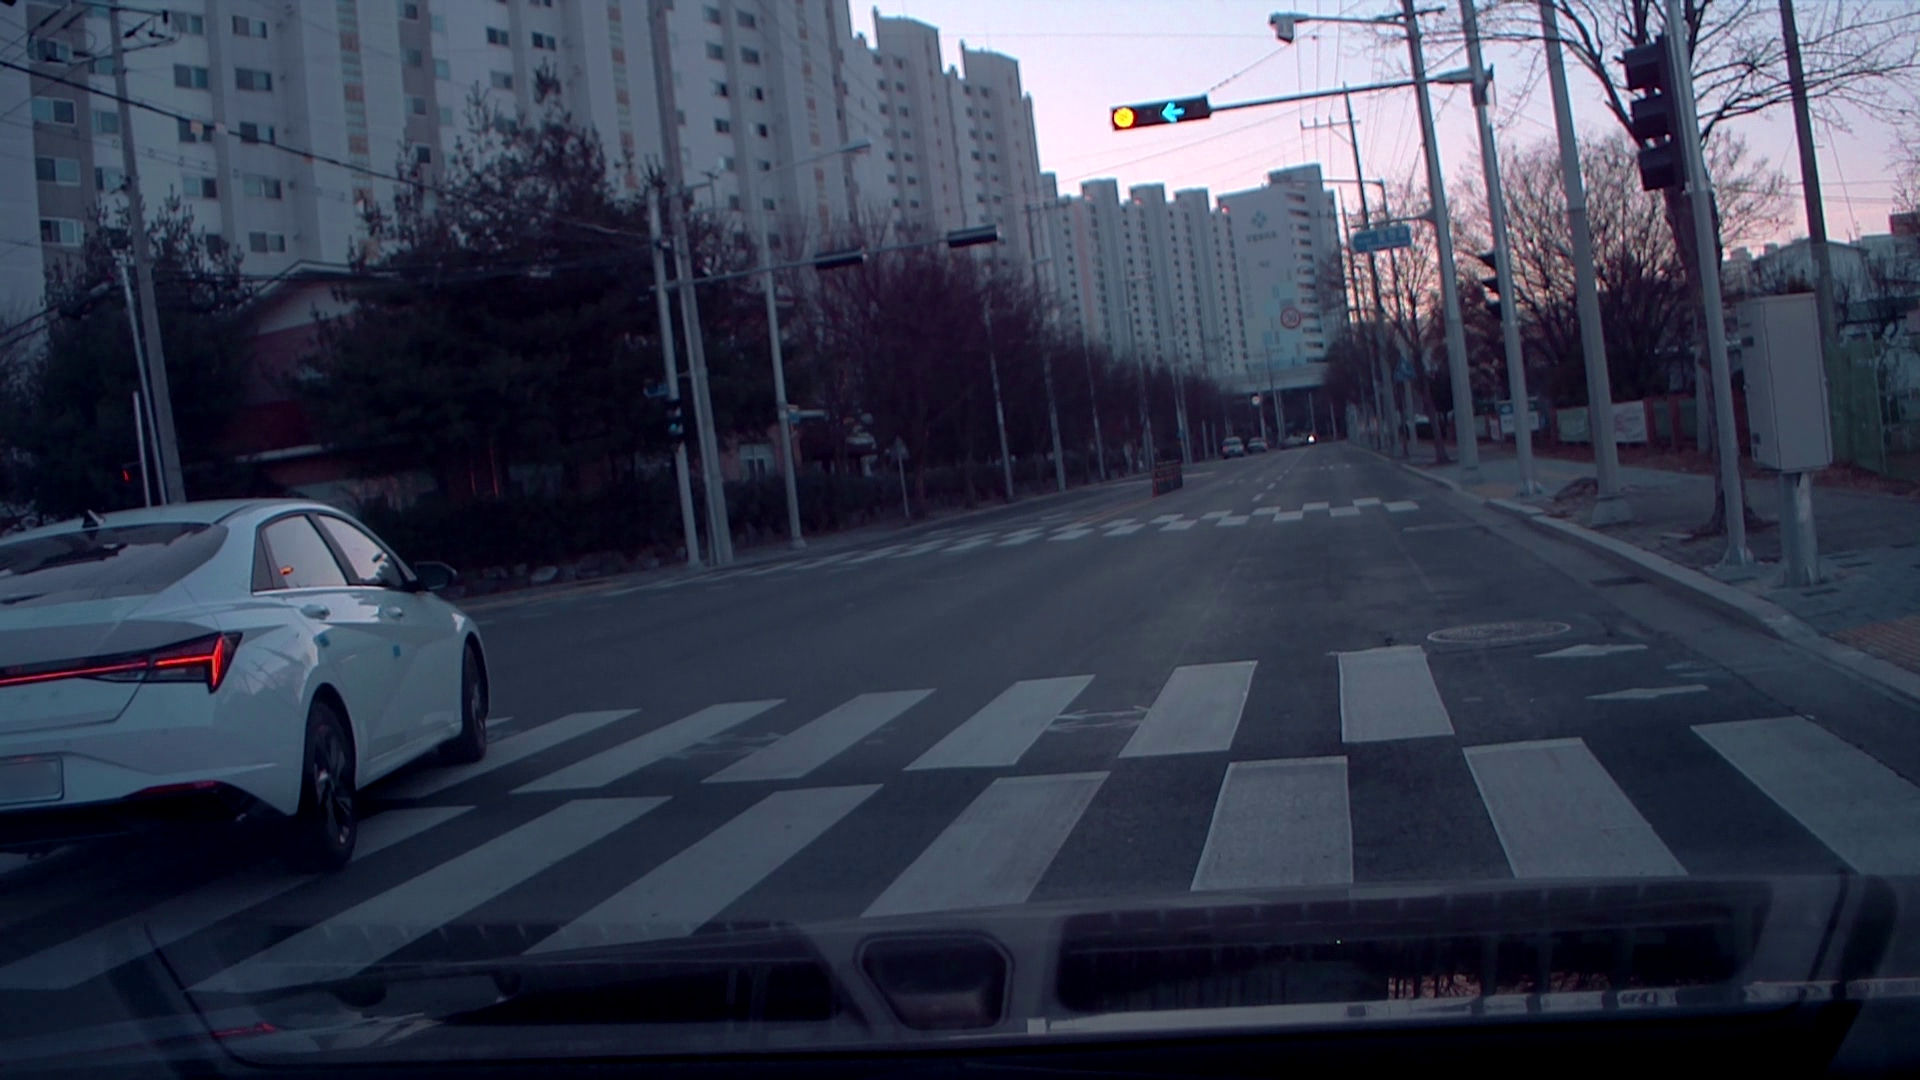trafficLight: (1113, 94, 1209, 133)
trafficSignCircle: (1279, 302, 1305, 328)
